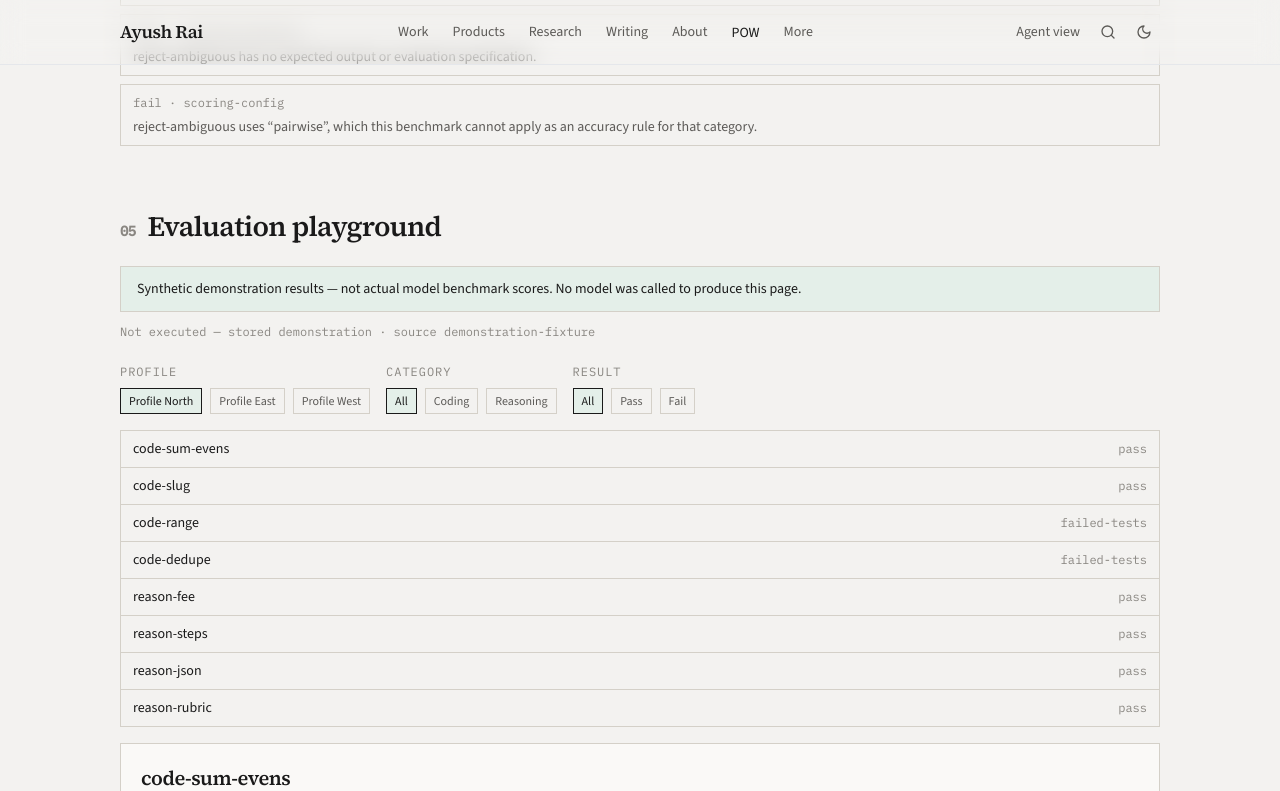
it: AI benchmark engineering page › filters the playground, including a combination with no rows
The width and height of the screenshot is (1280, 791).
(page scrolled)
Click the button "Profile East" at coordinates (247, 401), box [210,388,285,414]
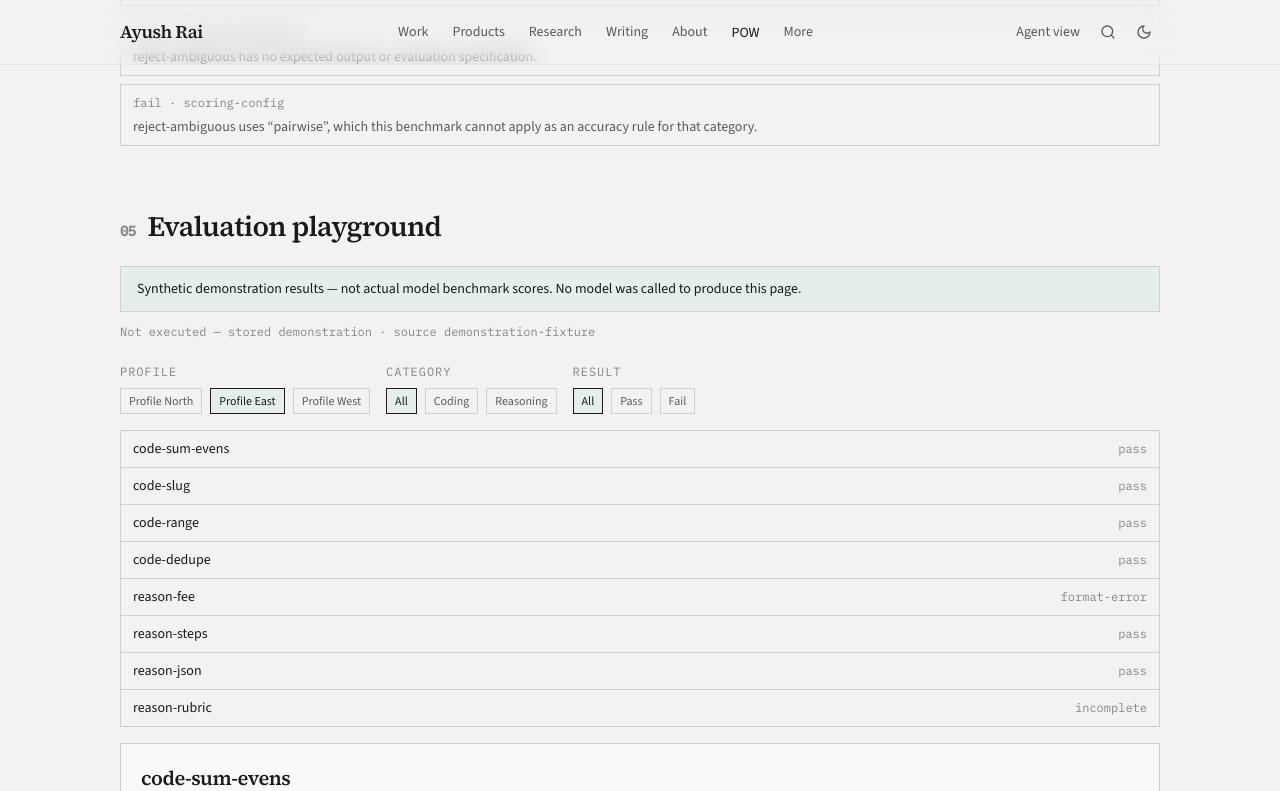
Click the button "reason-fee format-error" at coordinates (164, 596), box [121,579,1159,615]
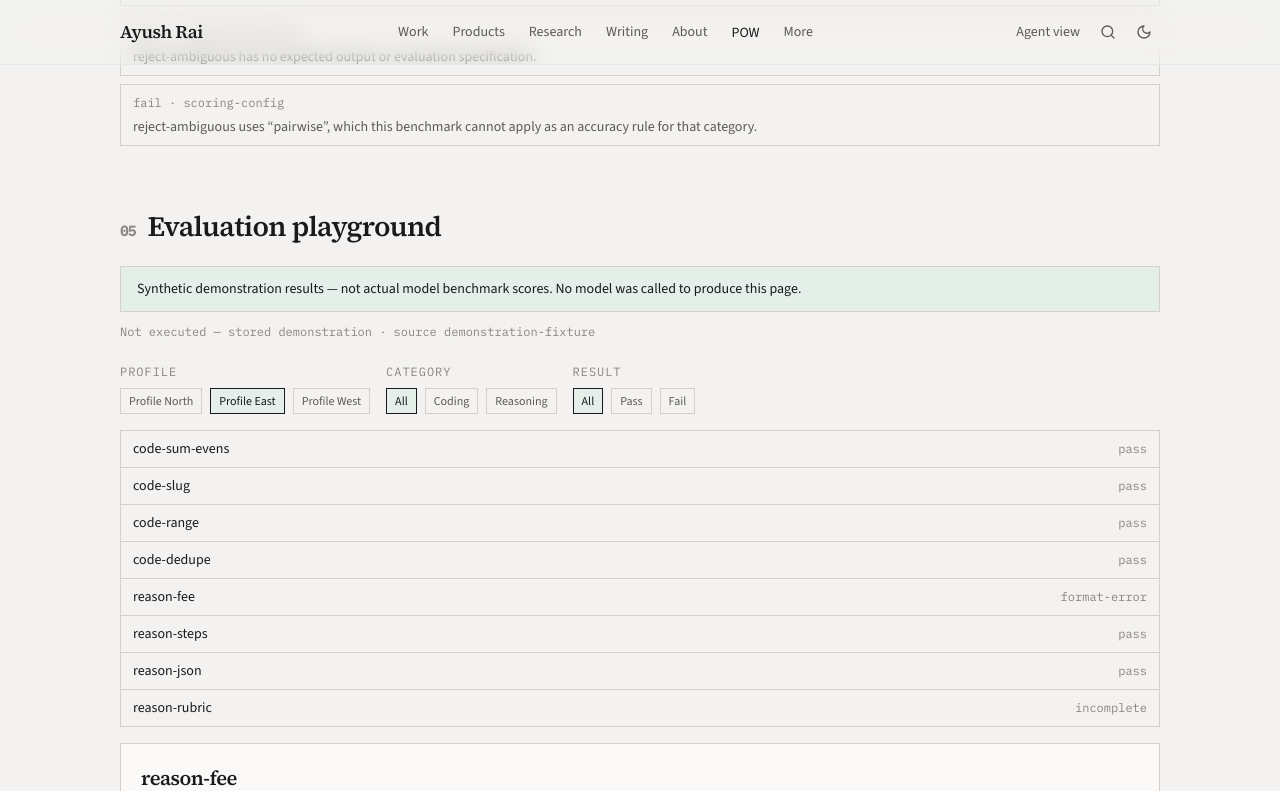
Click the button "Coding" at coordinates (452, 401), box [425,388,478,414]
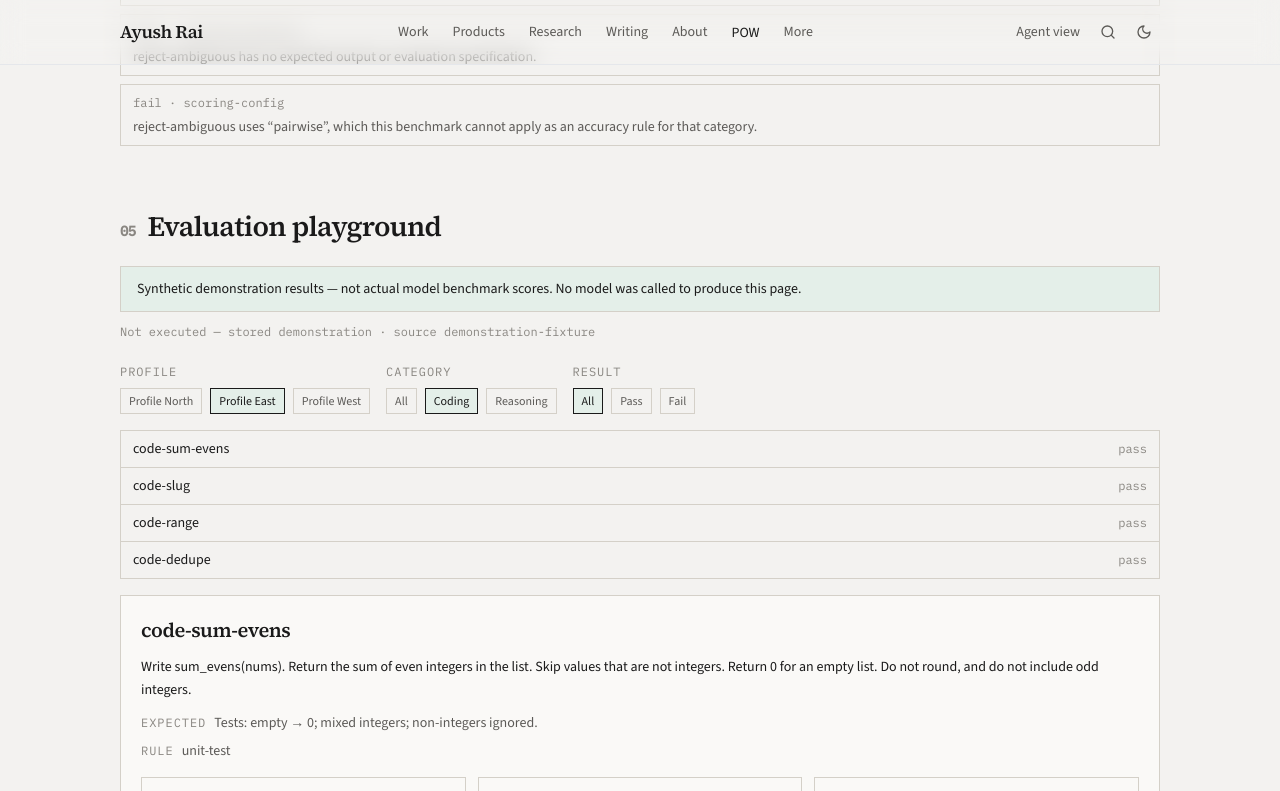
Click the button "Fail" at coordinates (677, 401), box [660,388,695,414]
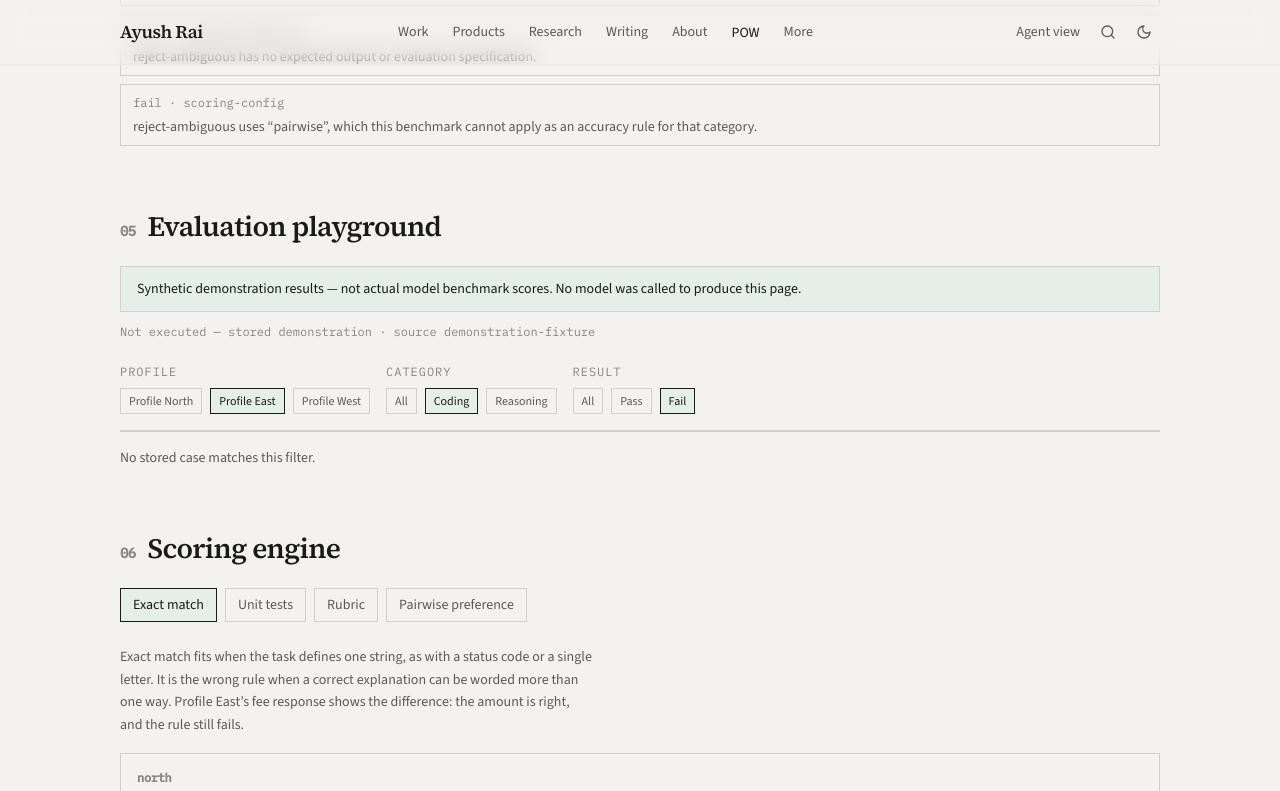
expect the text "No stored case matches this filter." is shown: met, box [120,448,316,467]
